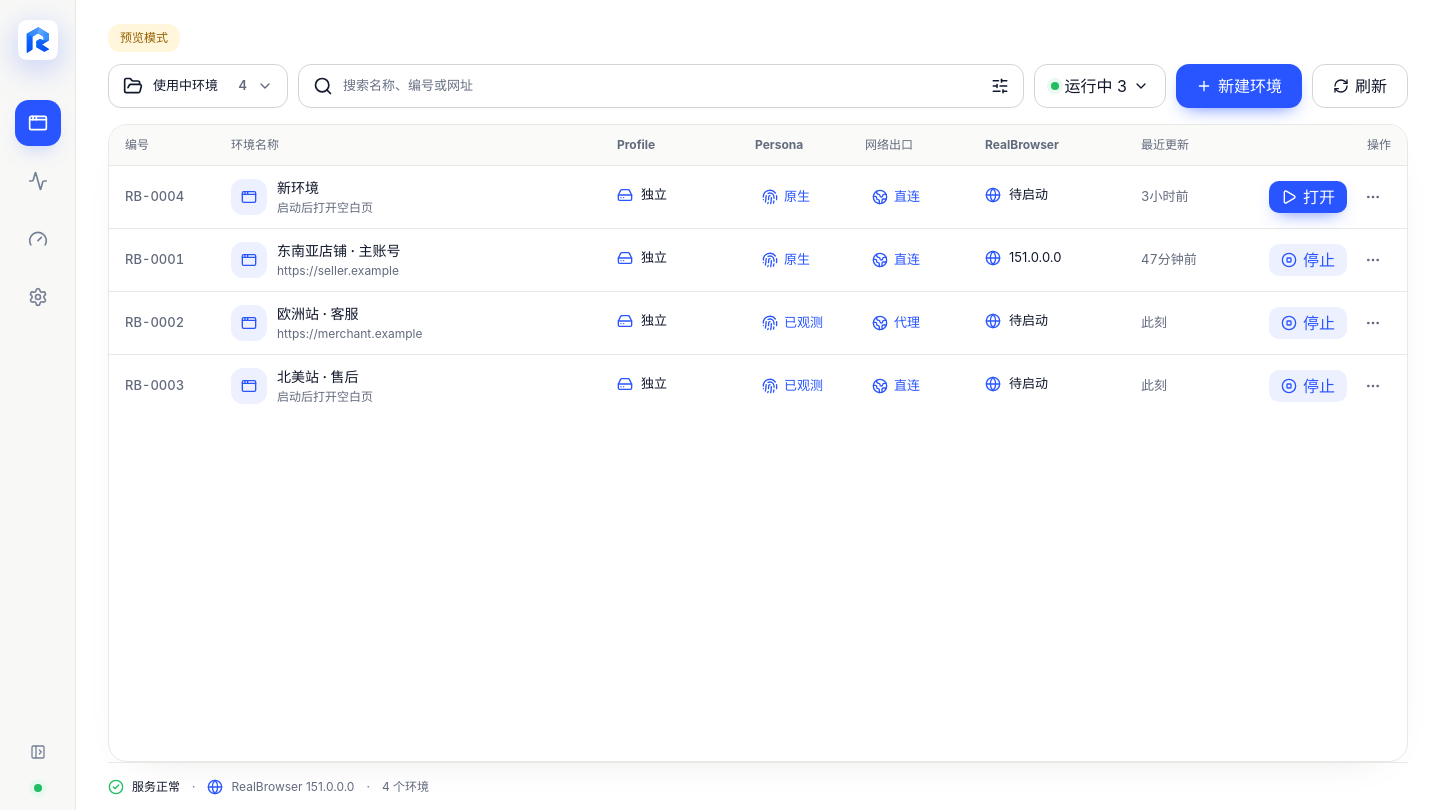
Browser Identity table › labels Canvas as CustomKernel only after a running observation
Click the button "打开" at (1308, 197), box 1269,181 -> 1347,213
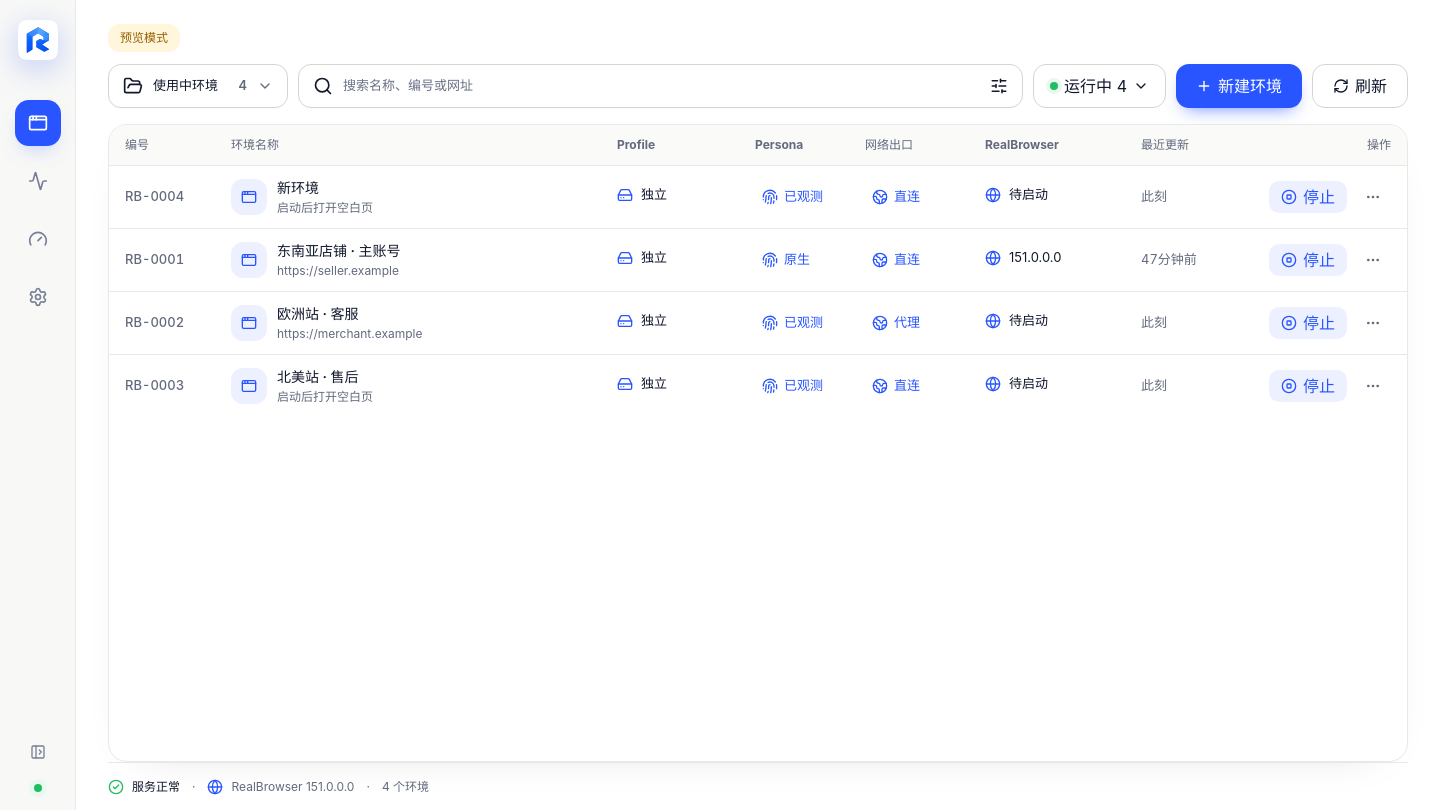
Click the button "已观测" in the row of "RB-0004" at (792, 197), box 755,182 -> 830,212
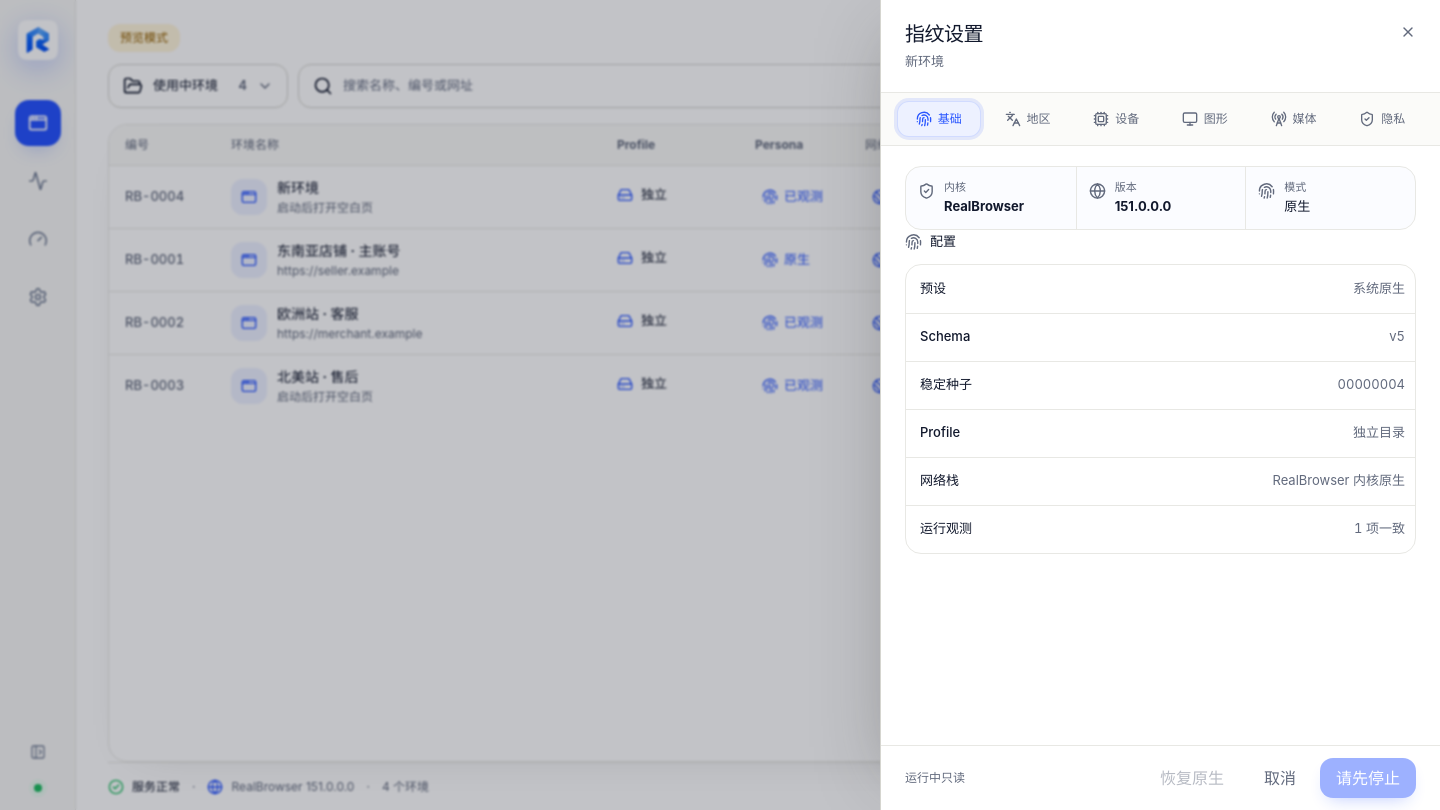
Expected: the text "1 项一致" is shown, 1354,519 -> 1405,539
Click the button "图形" at (1205, 118), box 1163,100 -> 1247,136
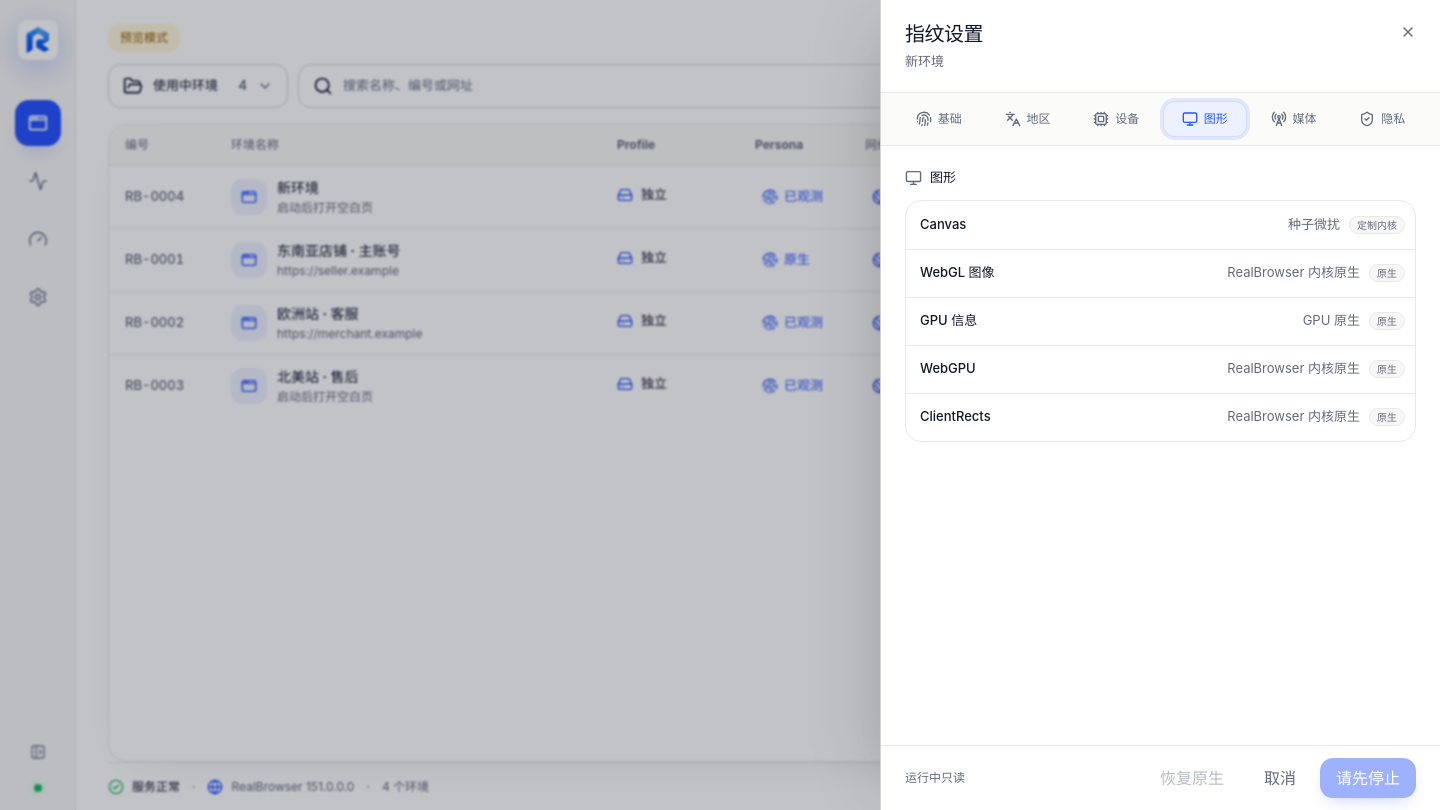
Expected: the text "种子微扰" is shown, 1288,215 -> 1340,234
Expected: the text labelled "定制内核" is shown, 1349,216 -> 1405,234
